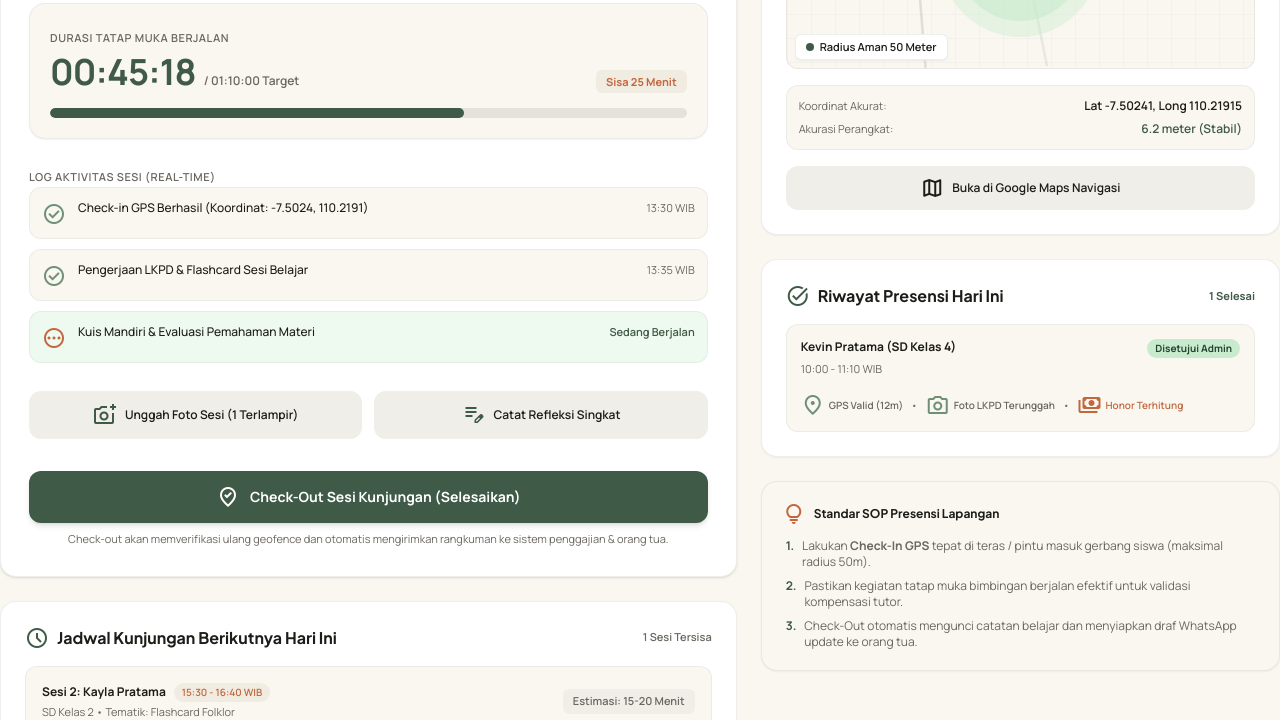
TutorGpsAttendance Component (SQA-ISTQB & TDD) › TC-TGA-004: opens photo upload modal and reflection notes modal
(page scrolled)
Note: Click upload photo button
Click the button "Unggah Foto Sesi (1 Terlampir)" at (196, 415), box [29,391,362,439]
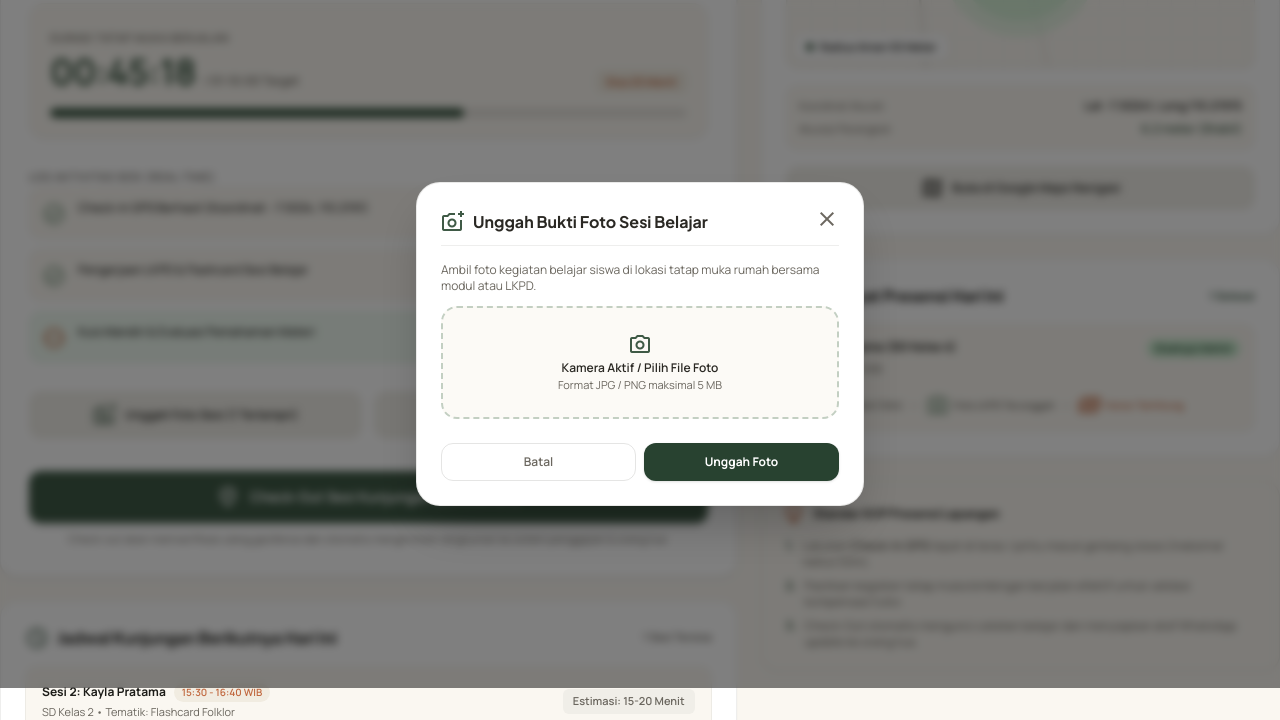
Expected: the heading "Unggah Bukti Foto Sesi Belajar" is shown, [473,210,708,234]
Note: Close photo modal
Click the button "Batal" at (538, 462), box [441,443,636,481]
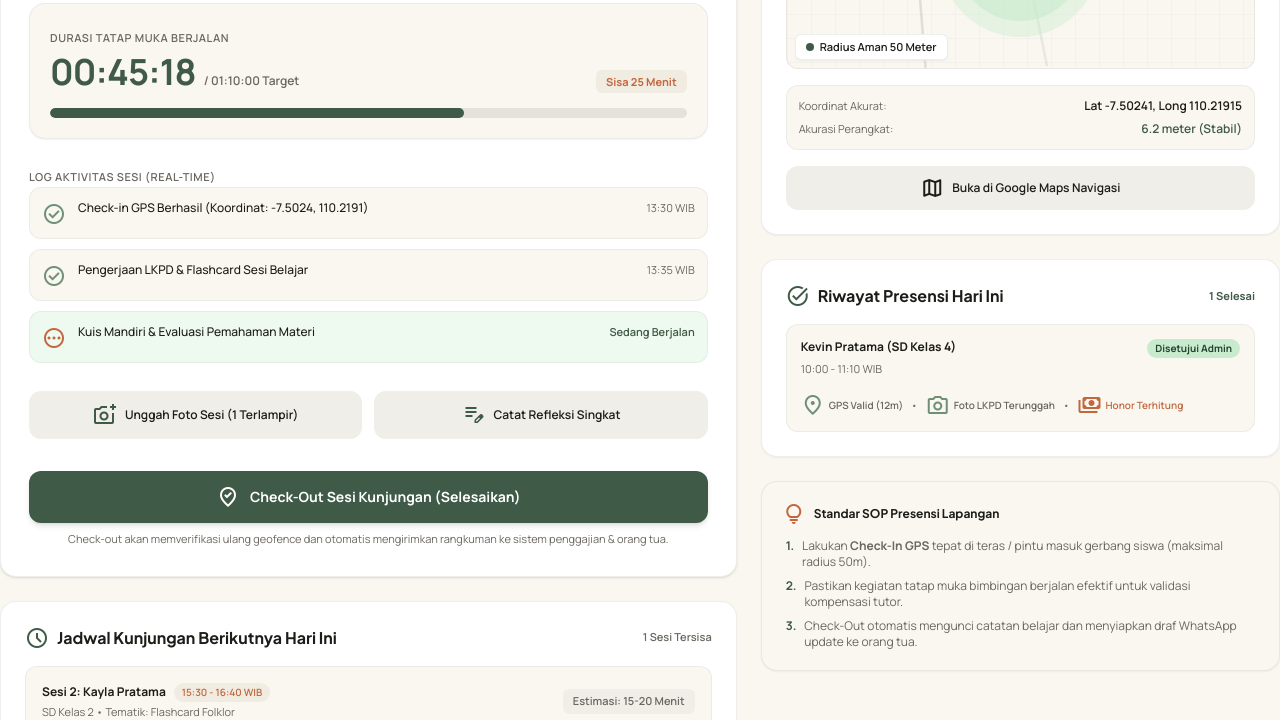
Expected: the heading "Unggah Bukti Foto Sesi Belajar" is gone
Note: Click reflection button
Click the button "Catat Refleksi Singkat" at (541, 415), box [374,391,708,439]
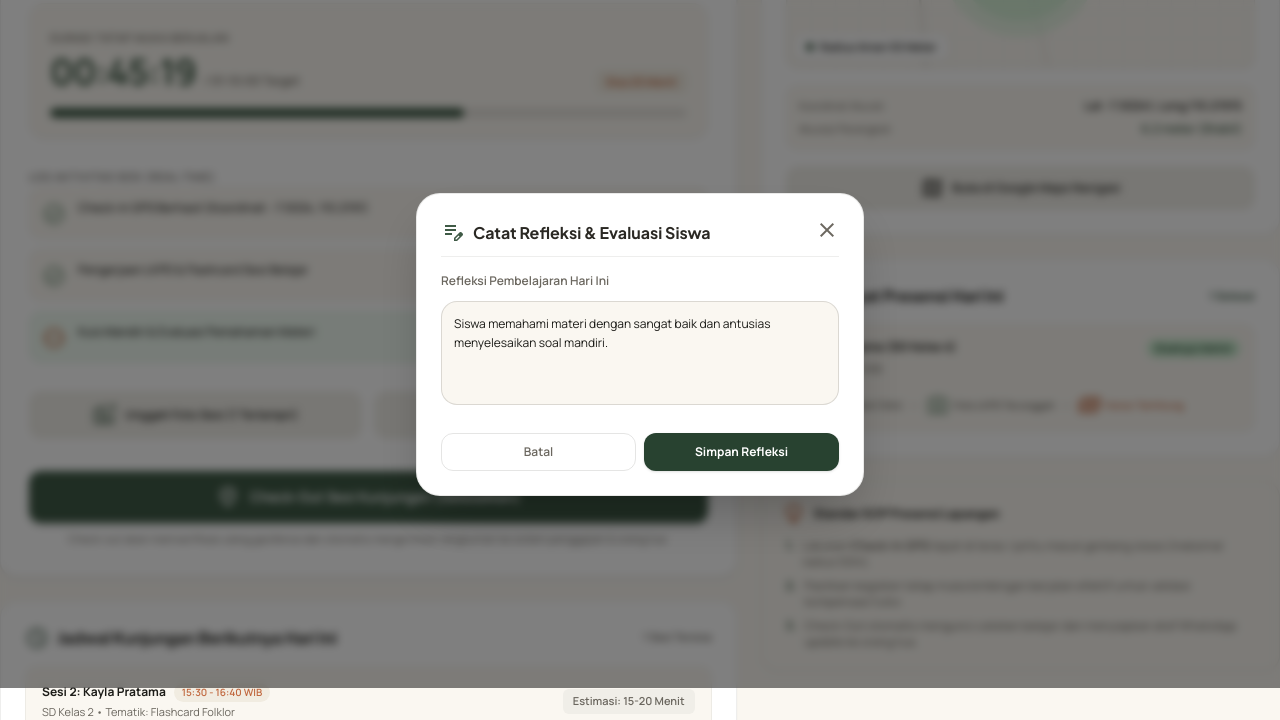
Expected: the heading "Catat Refleksi & Evaluasi Siswa" is shown, [473,220,711,244]
